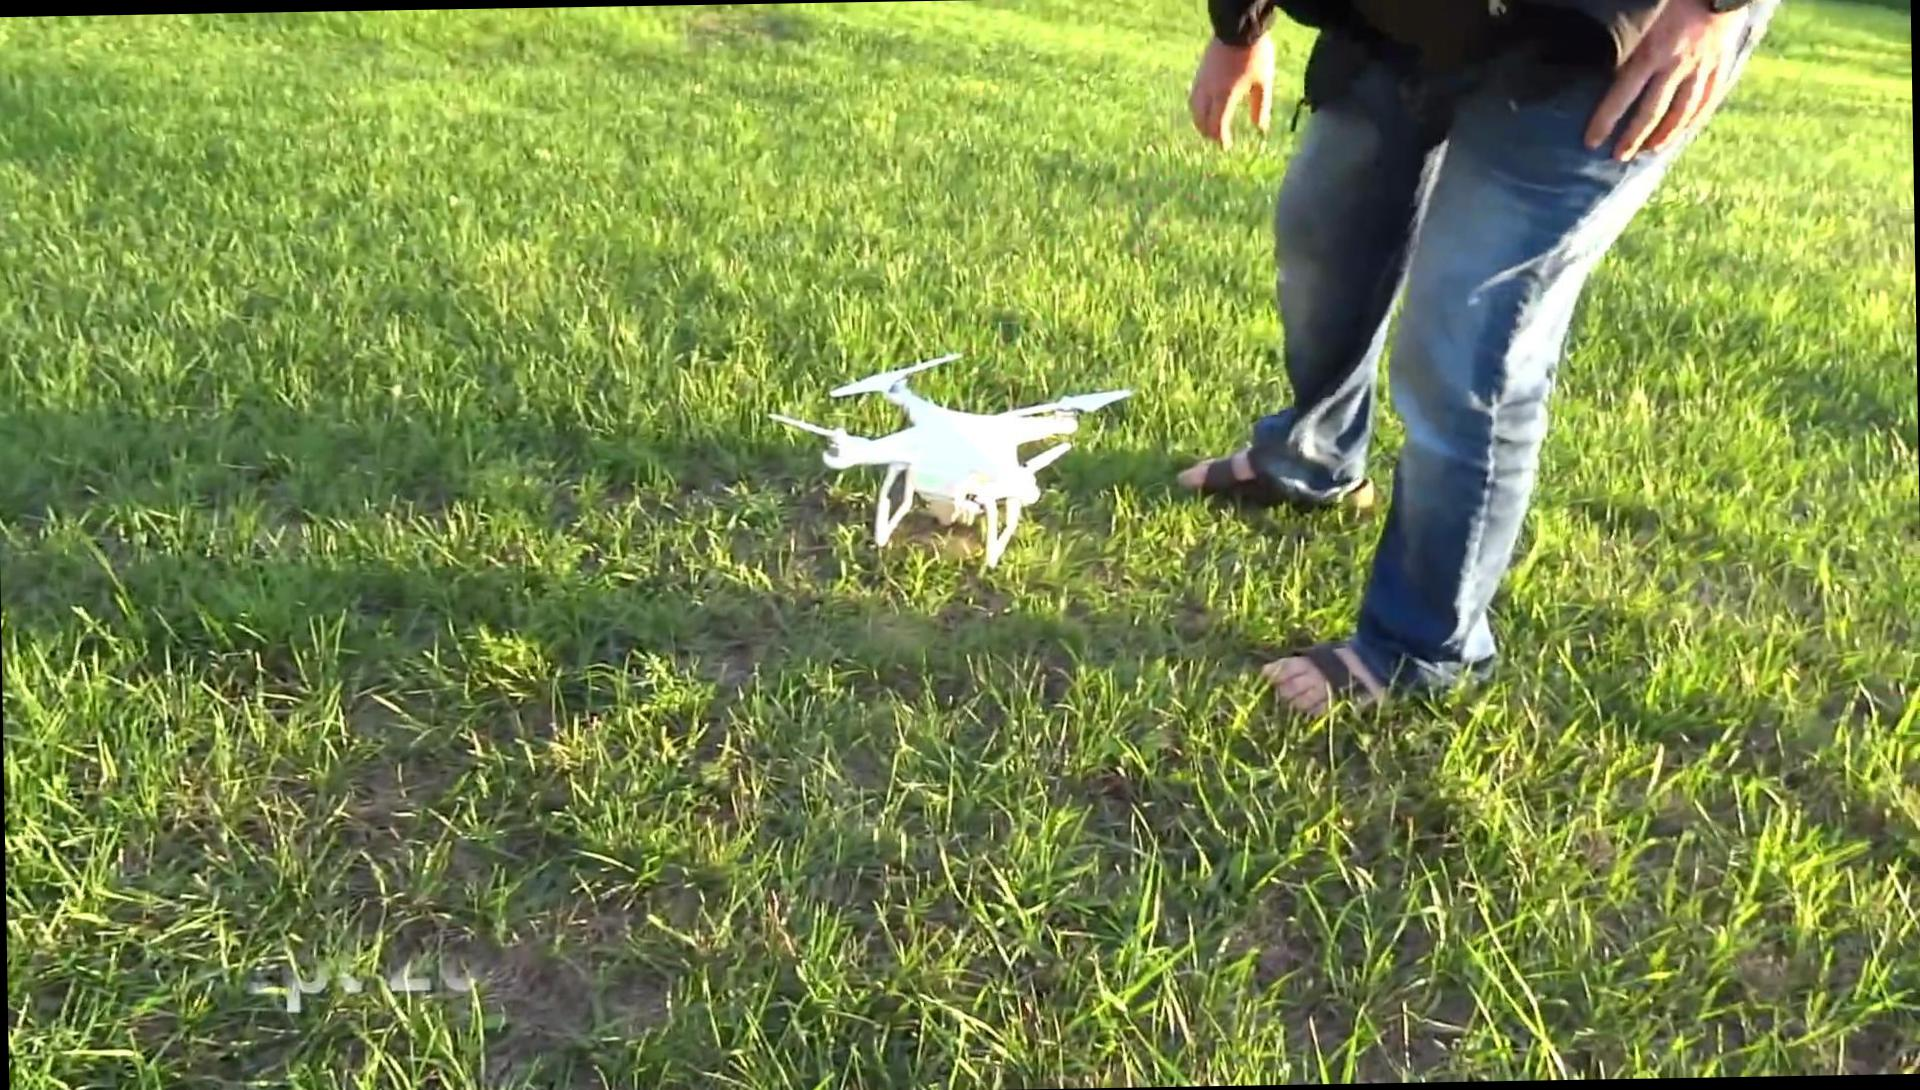drone: (777, 349, 1141, 567)
